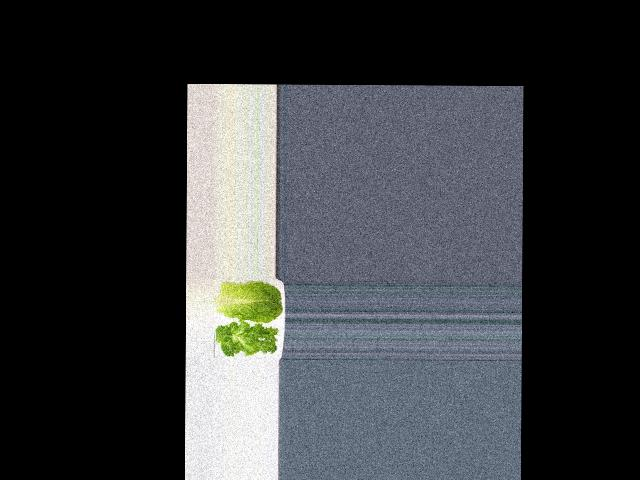lettuce: (217, 323, 278, 360)
